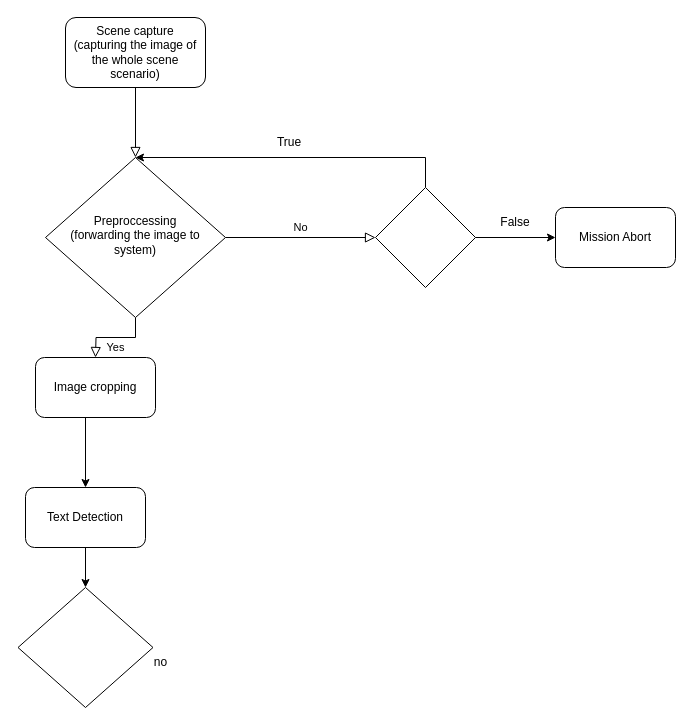
Image size: 693x725. Some labels were removed from this diagram. Here are the shapes that lost their labels. From the top down, the centre of each, then its label:
the point at 425,237: i<=2 i++
the point at 85,647: Possible Text of Number plate
